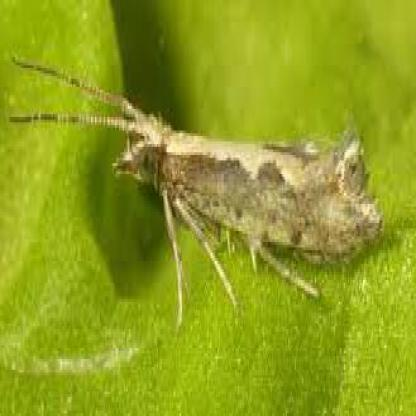plutella: (2, 49, 384, 347)
